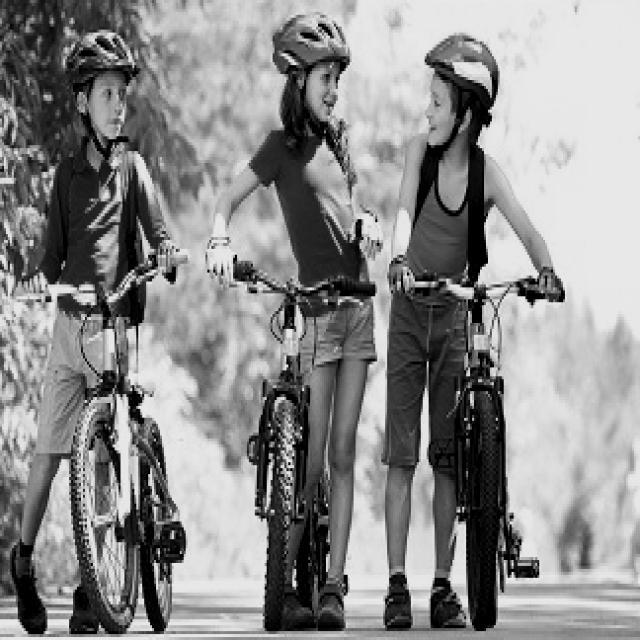Helmet: (410, 27, 518, 164), (65, 21, 144, 160), (271, 0, 356, 121)
